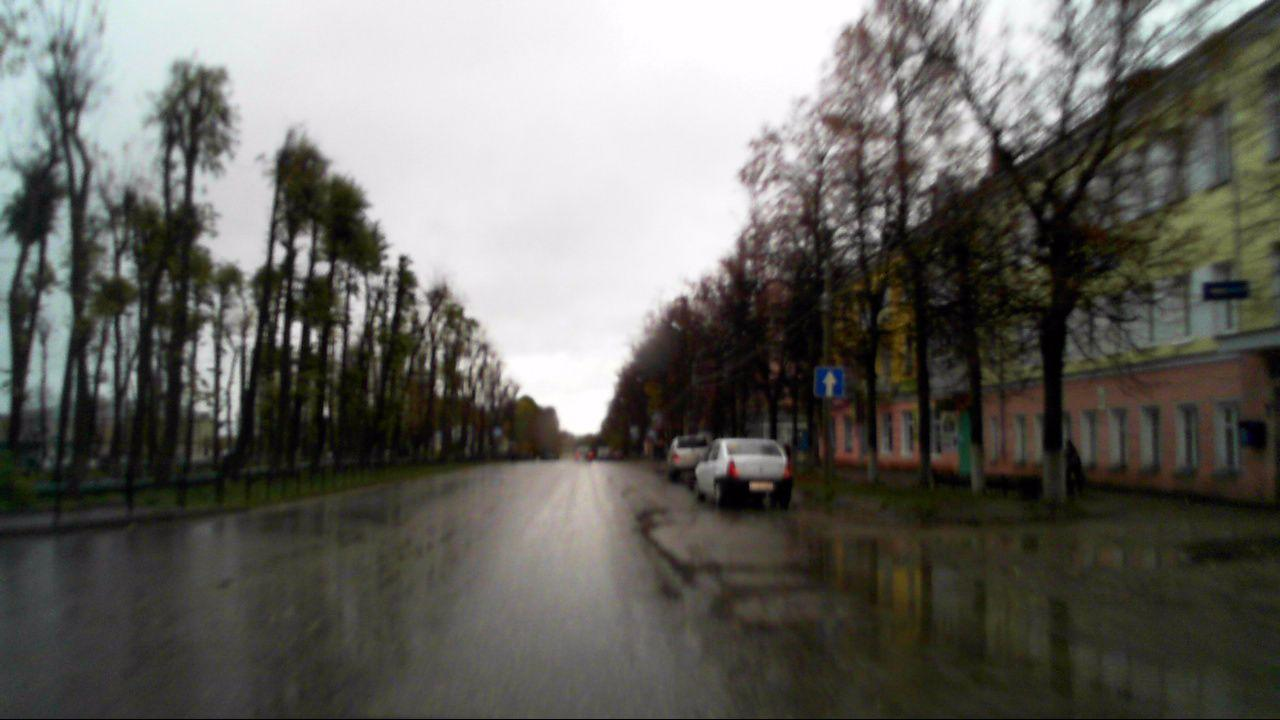5_5: (813, 366, 844, 398)
